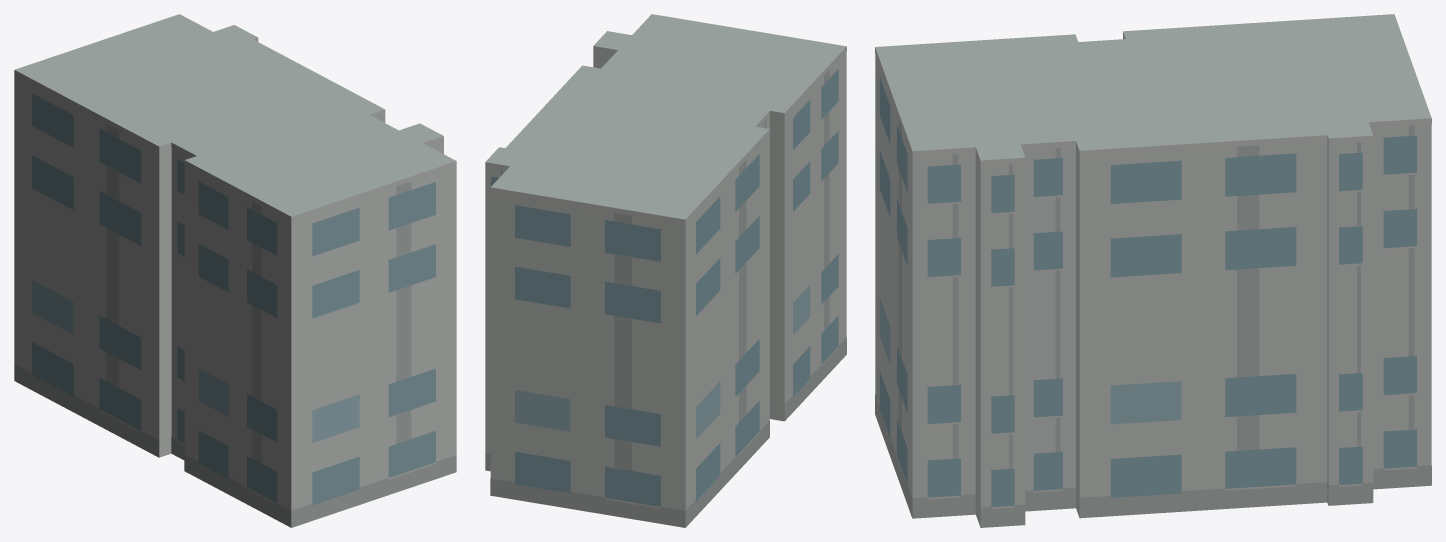
Rendered from survey-upis-32614618.glb.
3 renders of one model, left to right at view 1: azimuth 30°, elevation 25°; view 2: azimuth 150°, elevation 25°; view 3: azimuth 270°, elevation 25°, orthographic. The views are drawn at different scales.
Visible parts, largest first — view 1: survey-upis-32614618.tmp; view 2: survey-upis-32614618.tmp; view 3: survey-upis-32614618.tmp.
Boxes of the visible parts, box(x1,y1,x2,y2) form: survey-upis-32614618.tmp: box(14, 14, 456, 527); survey-upis-32614618.tmp: box(485, 14, 846, 527); survey-upis-32614618.tmp: box(875, 14, 1431, 527).
Bounding box in the file's own units: 13.06 × 15.25 × 20.96.
